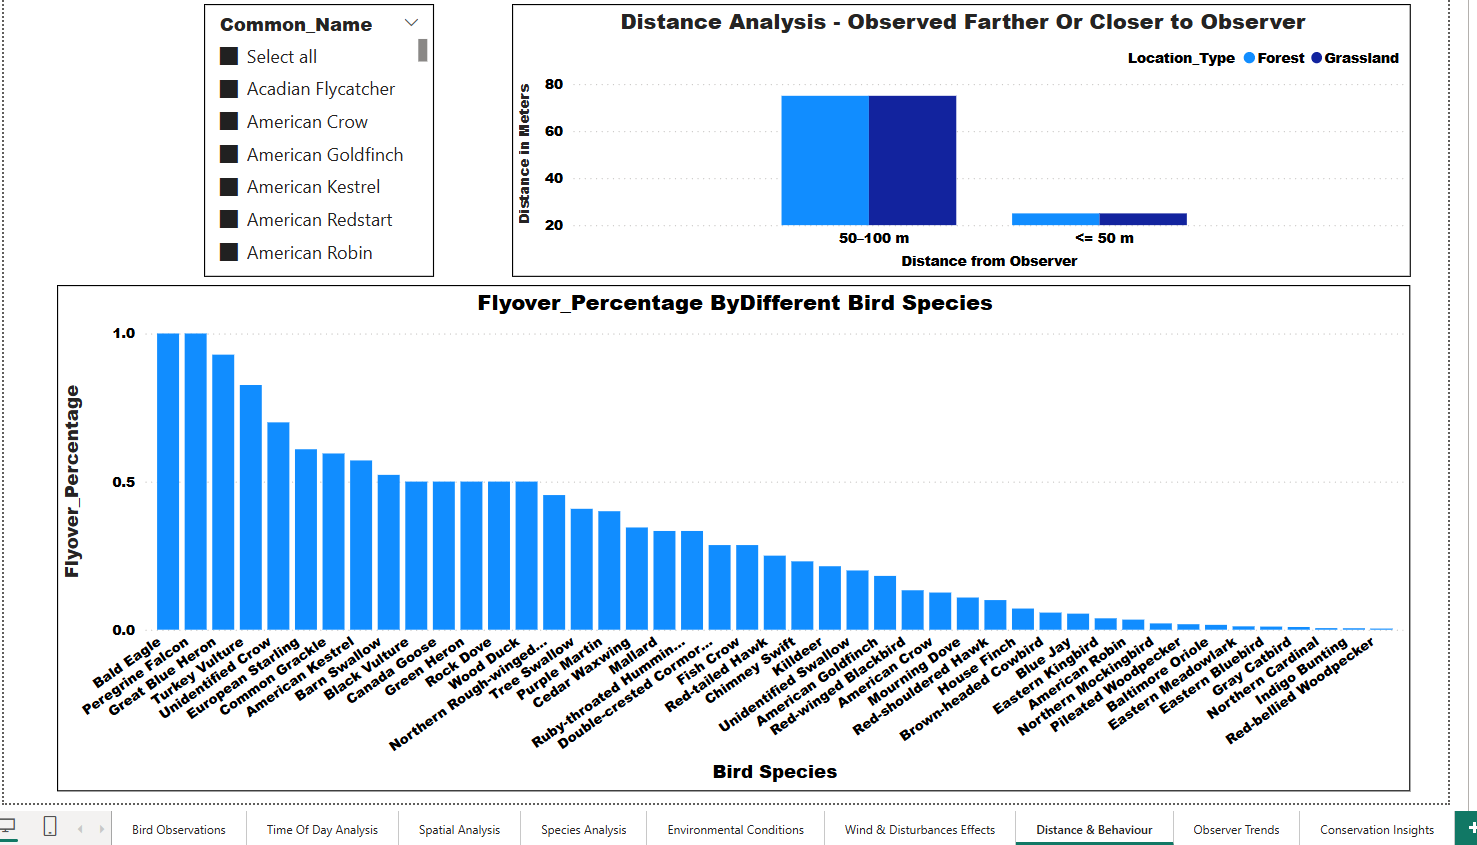

The dashboard page shown, as its layout file describes it:
{"tool":"powerbi","page":{"name":"Distance & Behaviour","canvas":[1280,720],"ordinal":6},"visuals":[{"type":"clusteredColumnChart","title":"Distance Analysis - Observed Farther Or Closer to  Observer","fields":{"Category":["birdobservation_db distance_lookup.Distance_Bin"],"Y":["All_Bird_Observations.Avg_Of_Distances"],"Series":["All_Bird_Observations.Location_Type"]},"box":[450.7,11.4,797.2,242.4],"z":0},{"type":"slicer","fields":{"Values":["All_Bird_Observations.Common_Name"]},"box":[177,11.4,203.6,242.4],"z":1000},{"type":"clusteredColumnChart","title":"Flyover_Percentage ByDifferent Bird Species","fields":{"Category":["All_Bird_Observations.Common_Name"],"Y":["All_Bird_Observations.Flyover_Percentage"]},"box":[47.3,260.4,1200.5,448.8],"z":2000}]}

Visuals, with their boxes on the page's 1280x720 design canvas (x1, y1, x2, y2). These are canvas units, not pixel positions in the 1477x845 screenshot, which may show the page scaled, cropped or inside an application window:
"Distance Analysis - Observed Farther Or Closer to  Observer" clusteredColumnChart: bbox(451, 11, 1248, 254)
slicer - All_Bird_Observations.Common_Name: bbox(177, 11, 381, 254)
"Flyover_Percentage ByDifferent Bird Species" clusteredColumnChart: bbox(47, 260, 1248, 709)
